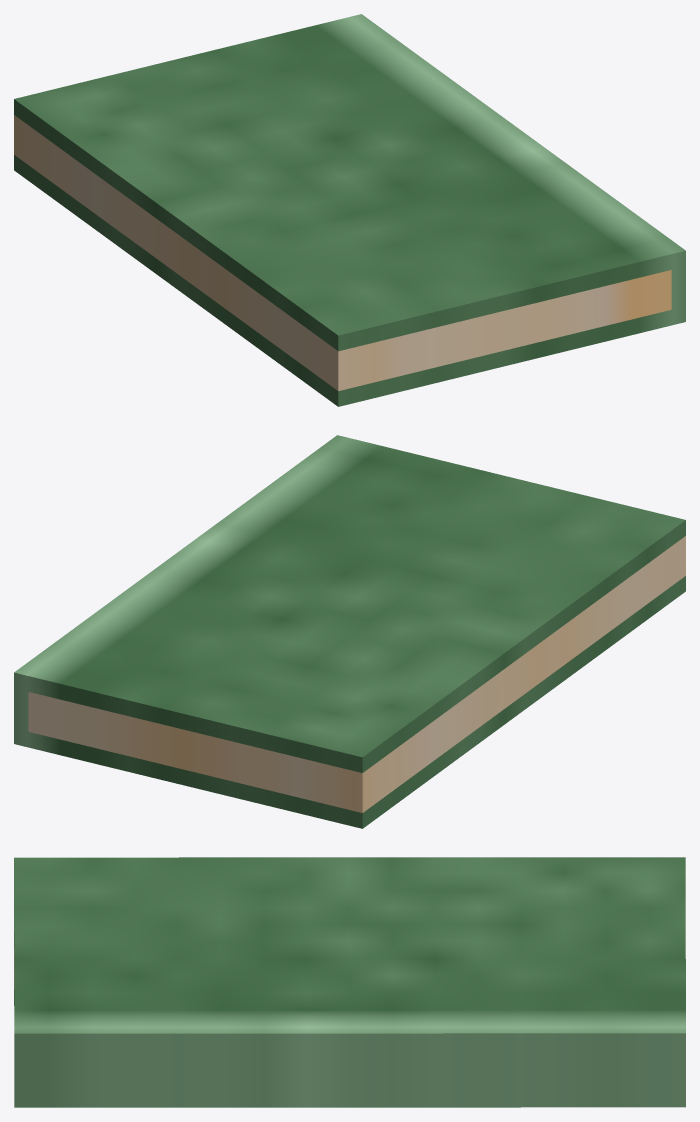
Rendered from BookGreen.fbx.
3 views of the same model, one above another, from view 1: azimuth 30°, elevation 25°; view 2: azimuth 150°, elevation 25°; view 3: azimuth 270°, elevation 25° (orthographic). The views are drawn at different scales.
Visible parts, largest first — view 1: Cube.043; view 2: Cube.043; view 3: Cube.043.
Boxes of the visible parts, x1,y1,x2,y2 form: Cube.043: [14, 14, 685, 406]; Cube.043: [14, 435, 685, 828]; Cube.043: [14, 857, 685, 1107].
Size of the model in its own units: 49.84 by 9.75 by 80.17.
